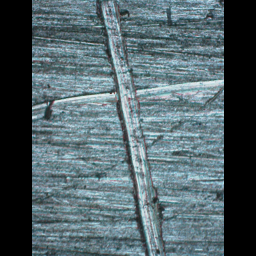d: (92, 0, 168, 254), (32, 76, 223, 112)
